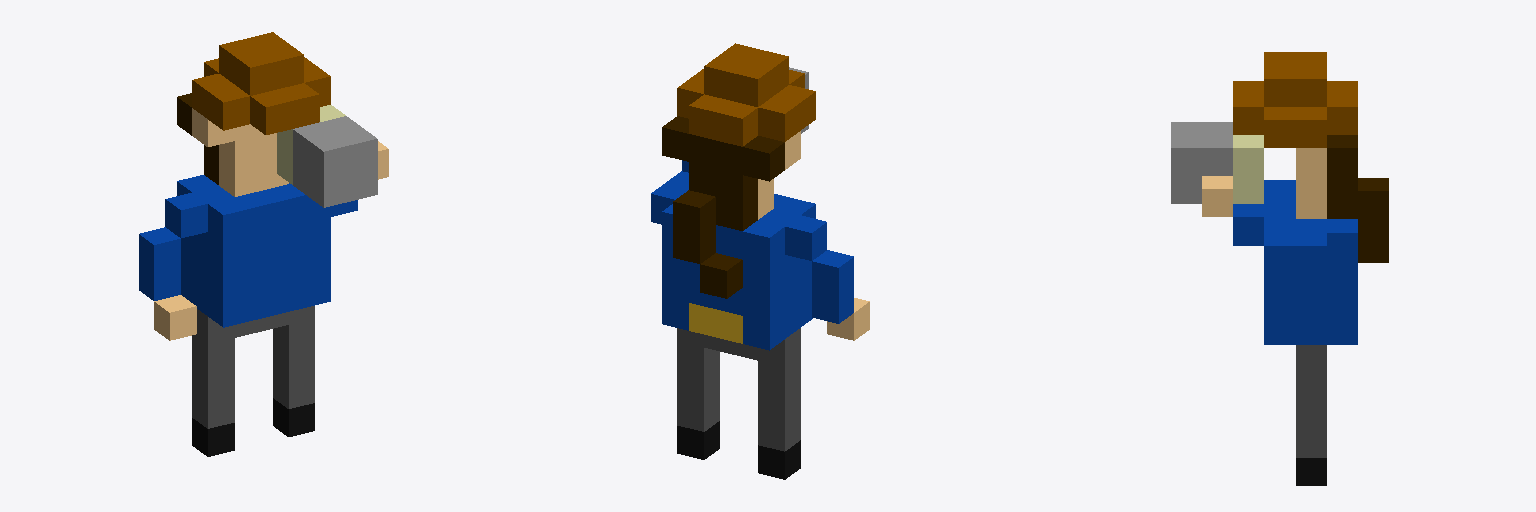
3 renders of one model, left to right at view 1: azimuth 30°, elevation 25°; view 2: azimuth 150°, elevation 25°; view 3: azimuth 270°, elevation 25°, orthographic.
Size of the model in its own units: 7 by 14 by 7.
Materials: 1 (1 with a texture image).